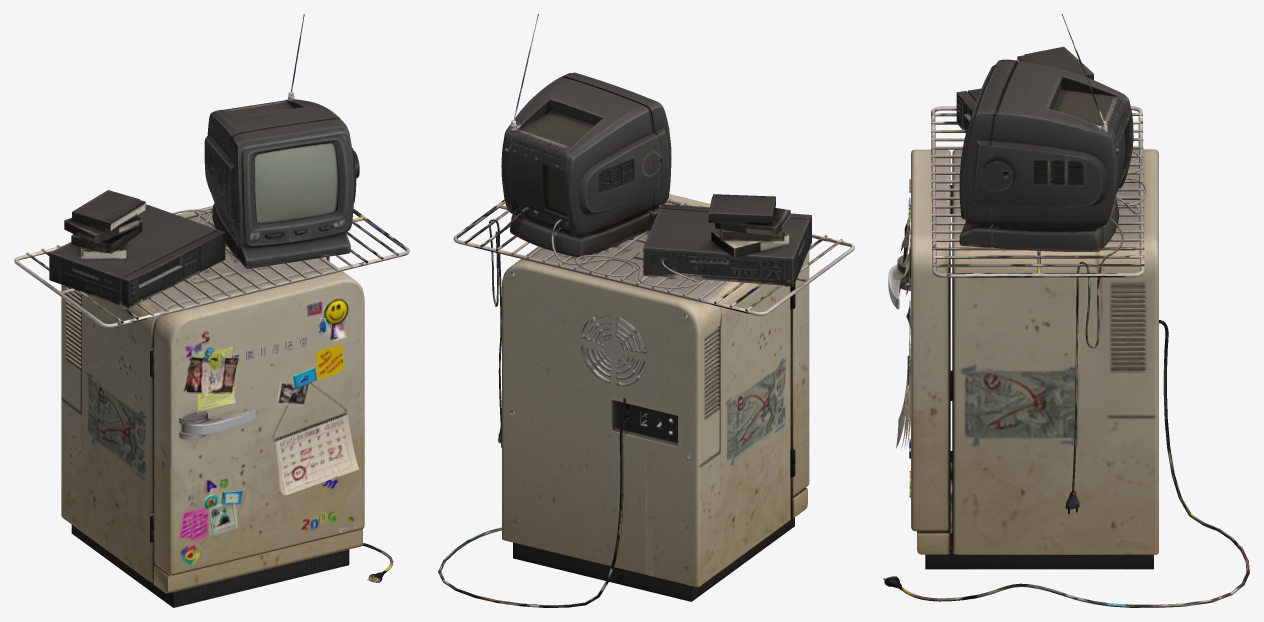
3 renders of one model, left to right at view 1: azimuth 30°, elevation 25°; view 2: azimuth 150°, elevation 25°; view 3: azimuth 270°, elevation 25°, orthographic. The views are drawn at different scales.
Visible parts, largest first — view 1: lvsm_inpainted_mesh; view 2: lvsm_inpainted_mesh; view 3: lvsm_inpainted_mesh.
Part boxes in pixels (<box>): lvsm_inpainted_mesh: <box>14,14,409,607</box>; lvsm_inpainted_mesh: <box>438,14,854,607</box>; lvsm_inpainted_mesh: <box>883,14,1249,607</box>.
Size of the model in its own units: 1.14 by 1.8 by 1.04.
1 material, 1 textured.
